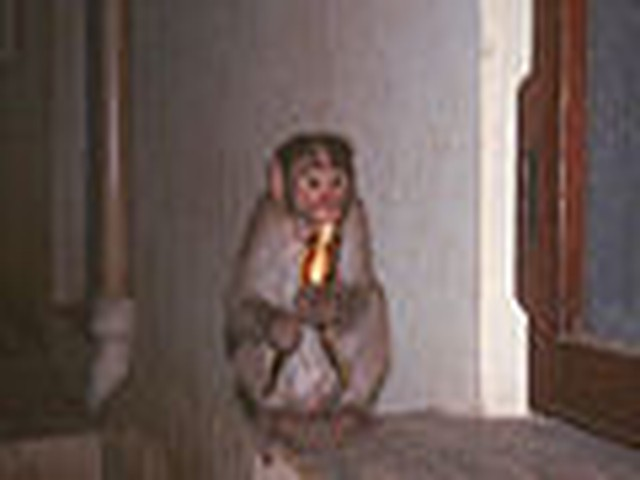Monkey: (215, 126, 402, 419)
